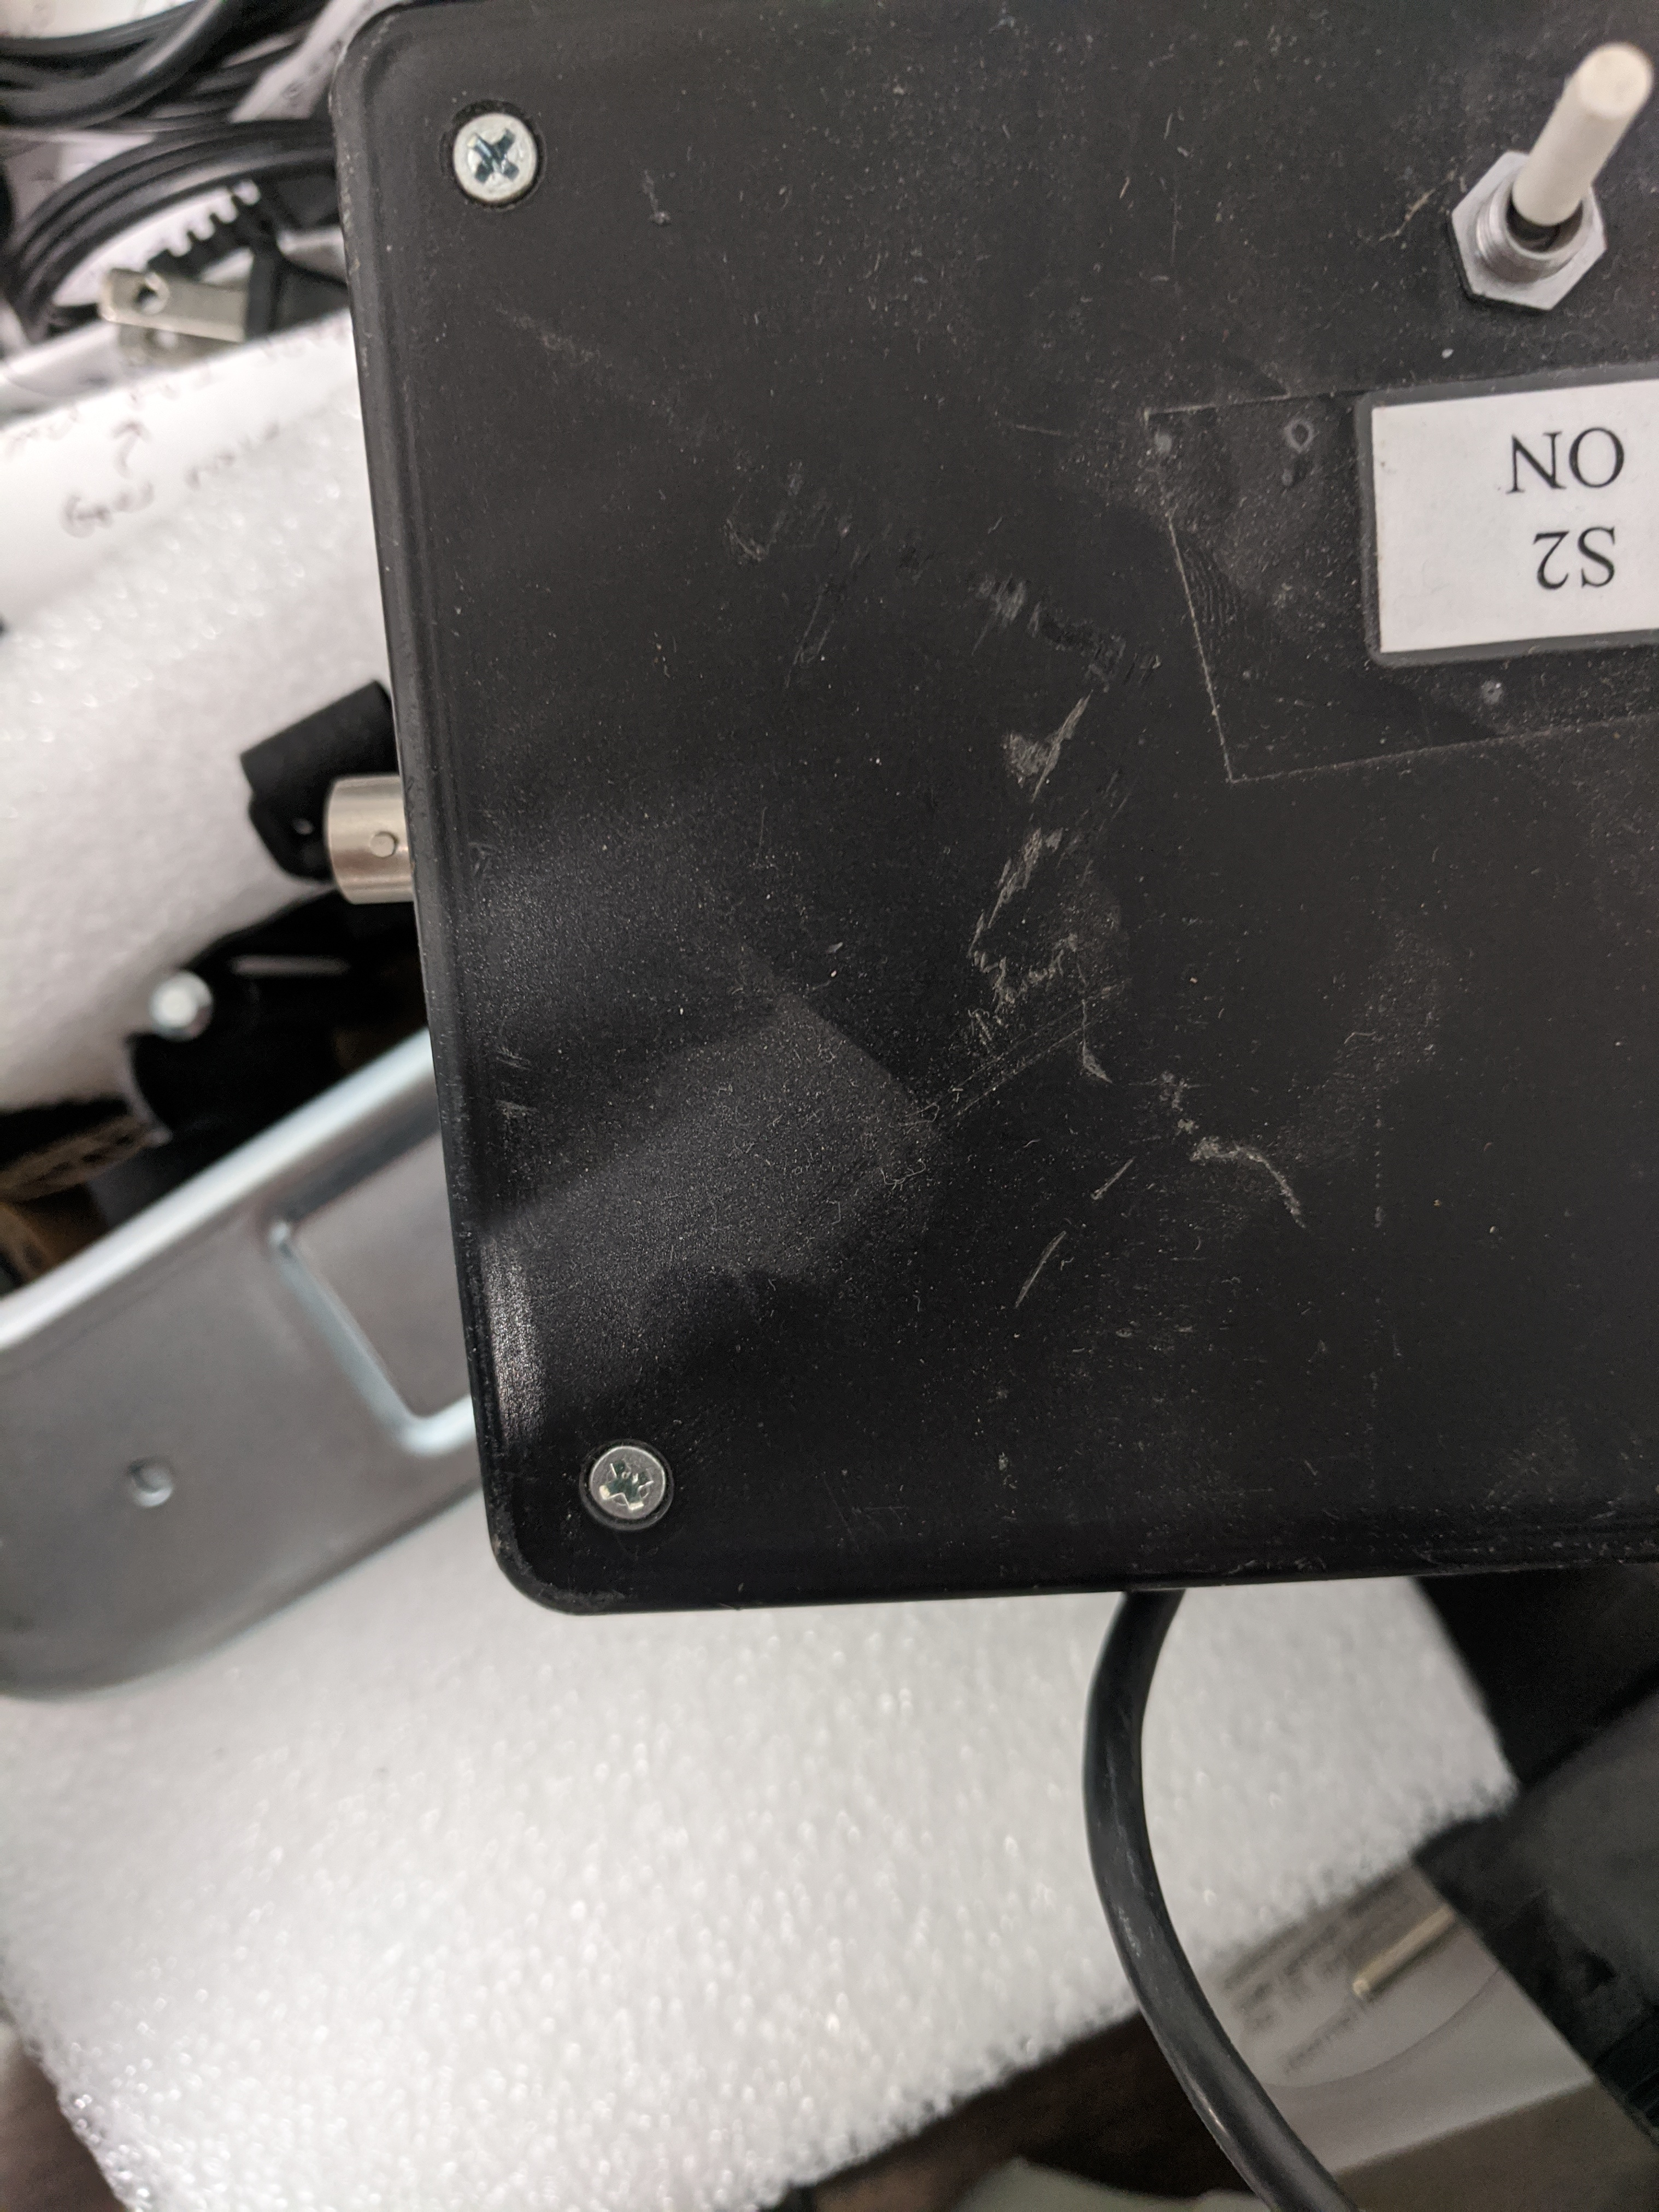cross_recessed_screw: (430, 80, 551, 211), (563, 1425, 690, 1543)
